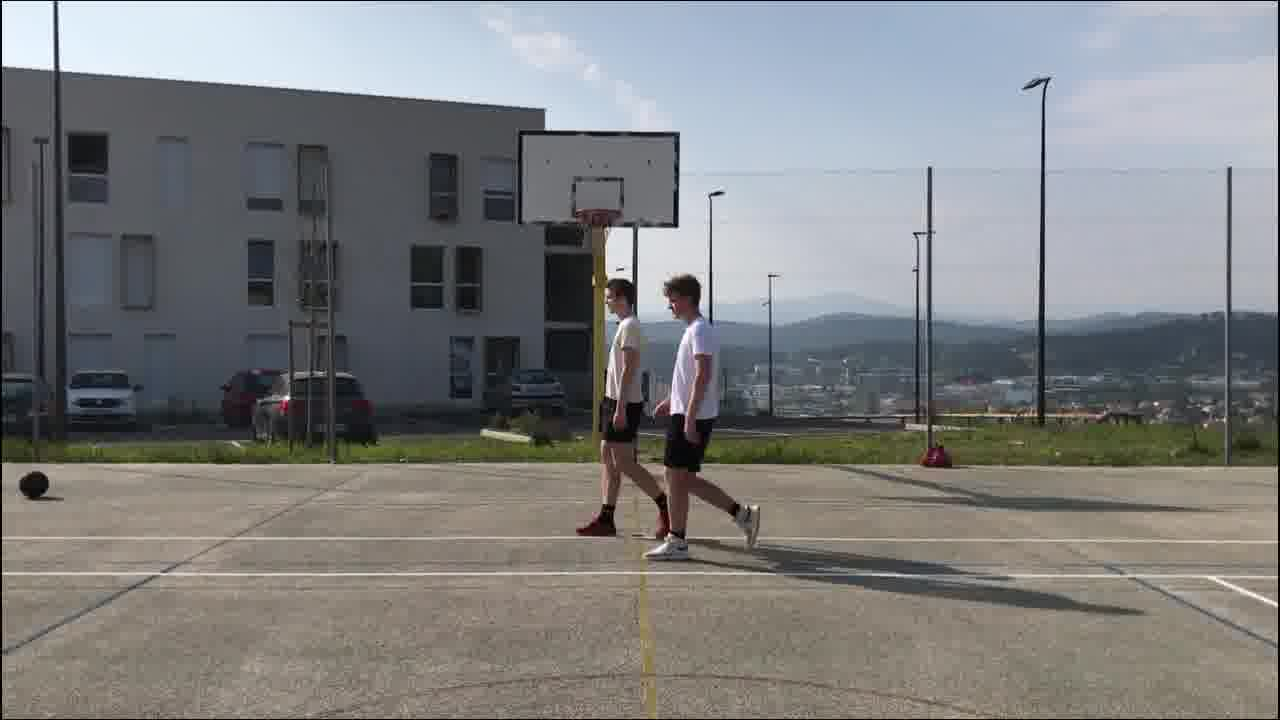jugador: (555, 270, 695, 553)
